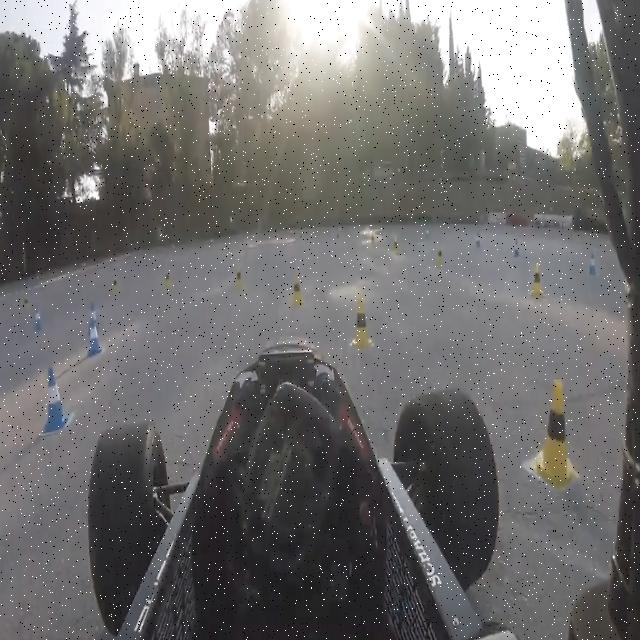blue_cone: (39, 364, 75, 438), (85, 316, 105, 361), (86, 302, 100, 340), (33, 306, 45, 336), (512, 237, 521, 259)
yellow_cone: (530, 378, 579, 494), (352, 290, 372, 352), (530, 262, 544, 298), (292, 272, 304, 308)
